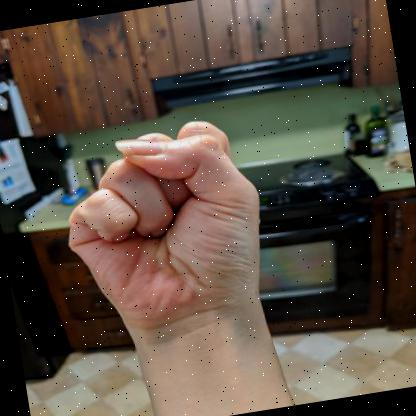S: (68, 120, 264, 336)
